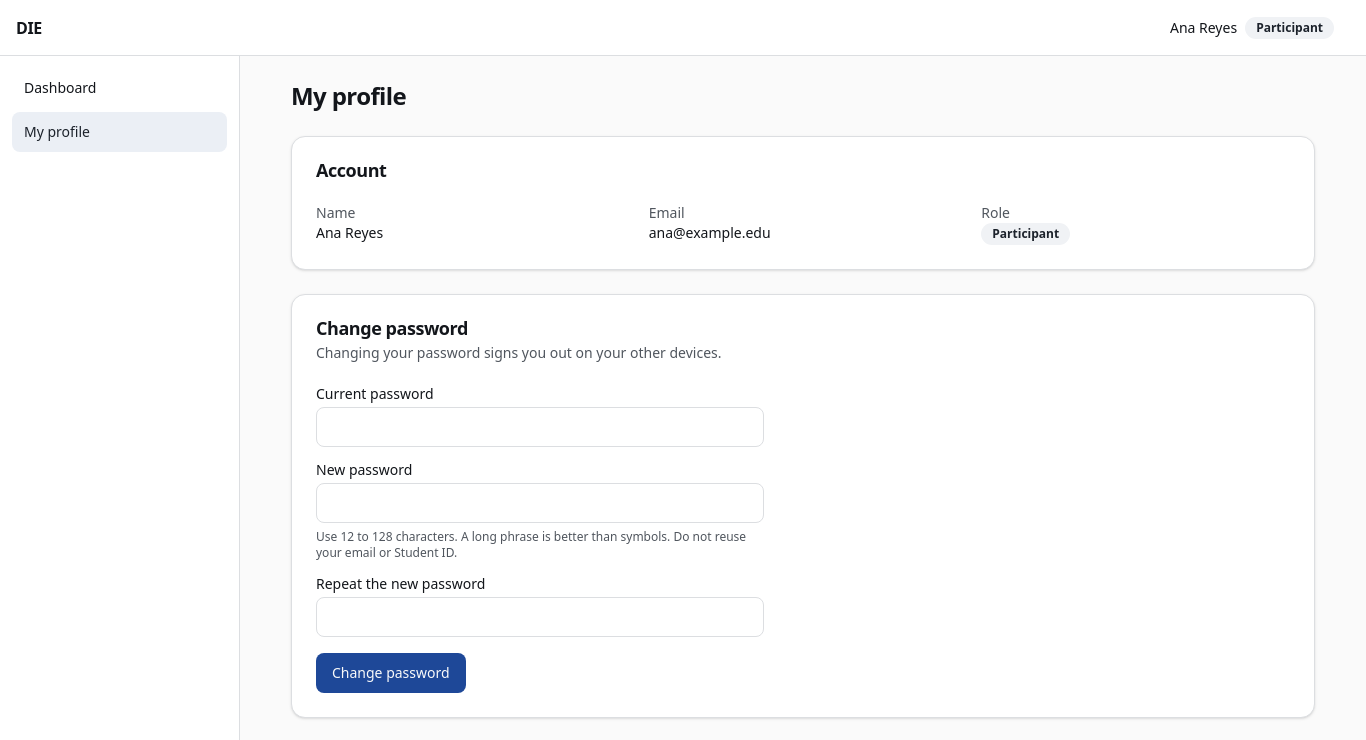
Test case: Change password (profile) › confirms success and clears the form
In the password field labelled "Current password": [540, 427] box [316, 407, 764, 447], type "current password!"
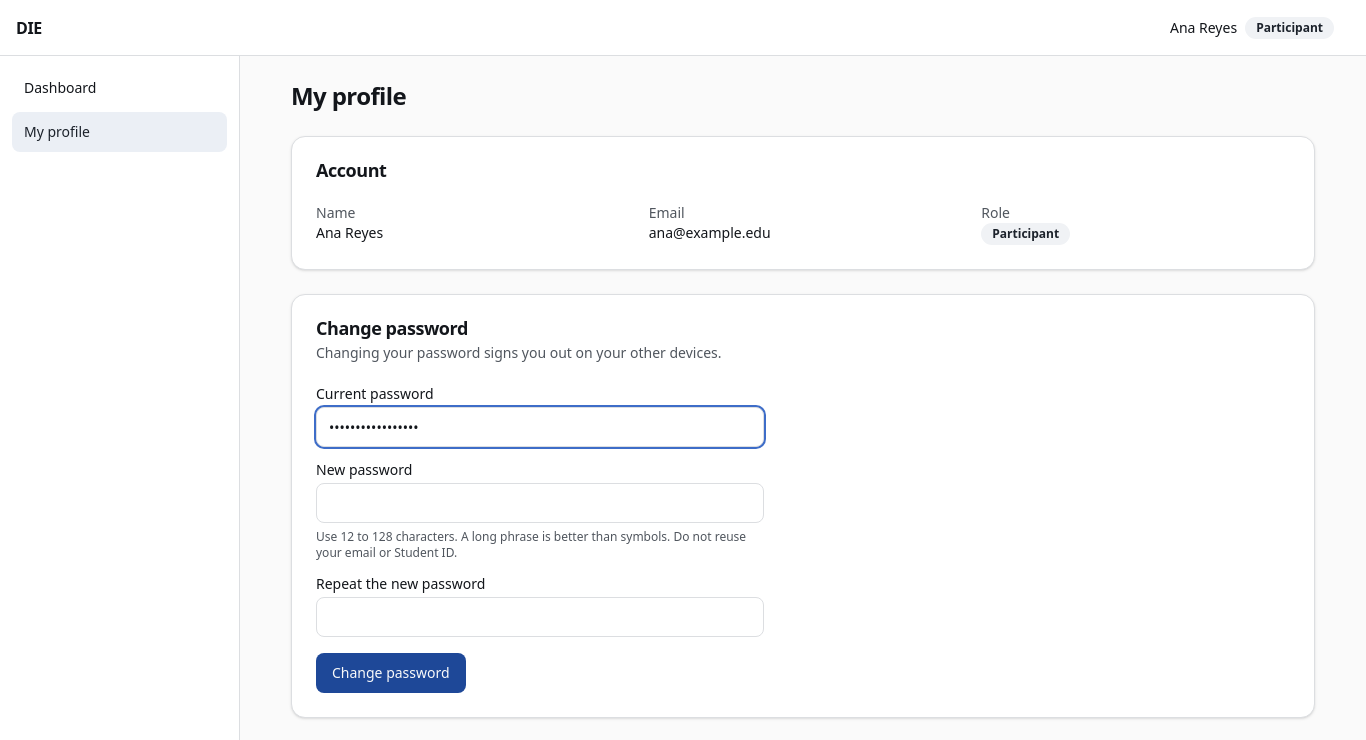
In the password field labelled "New password": [540, 503] box [316, 483, 764, 523], type "another long passphrase"
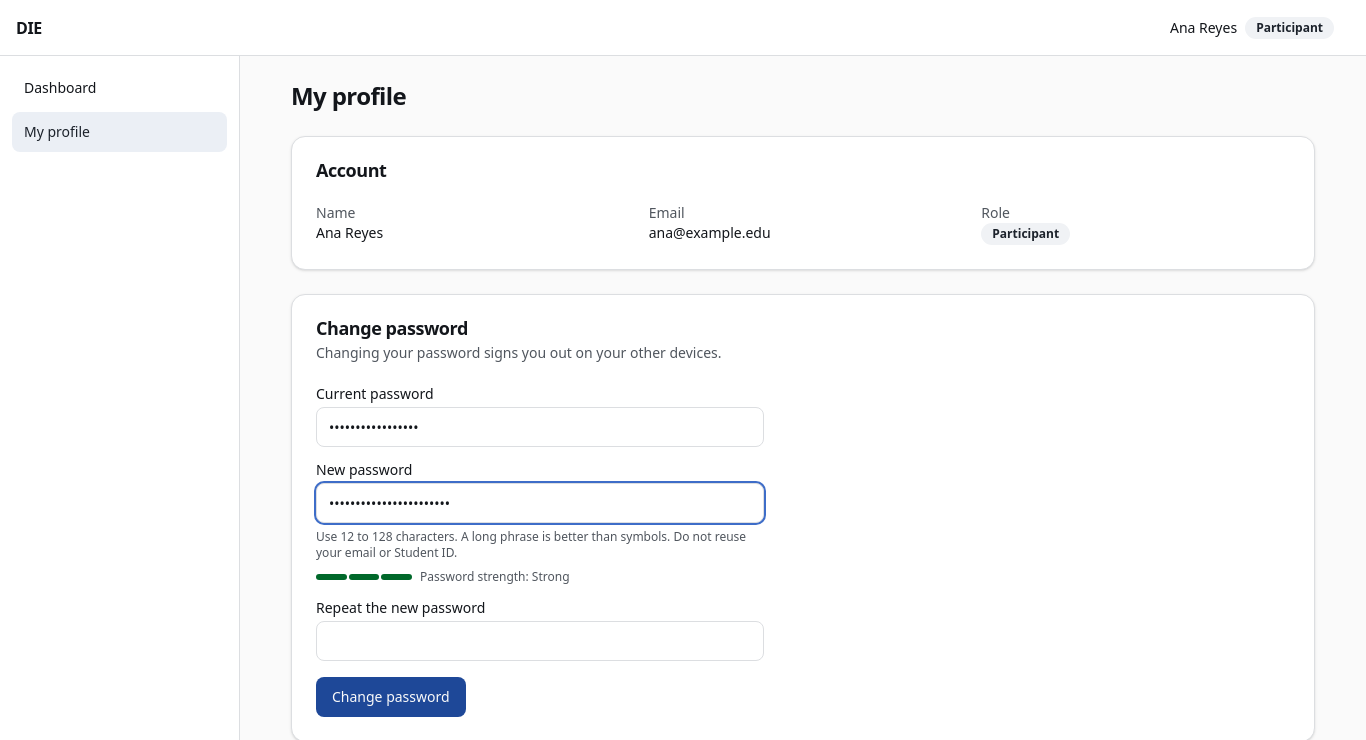
In the password field labelled "Repeat the new password": [540, 641] box [316, 621, 764, 661], type "another long passphrase"
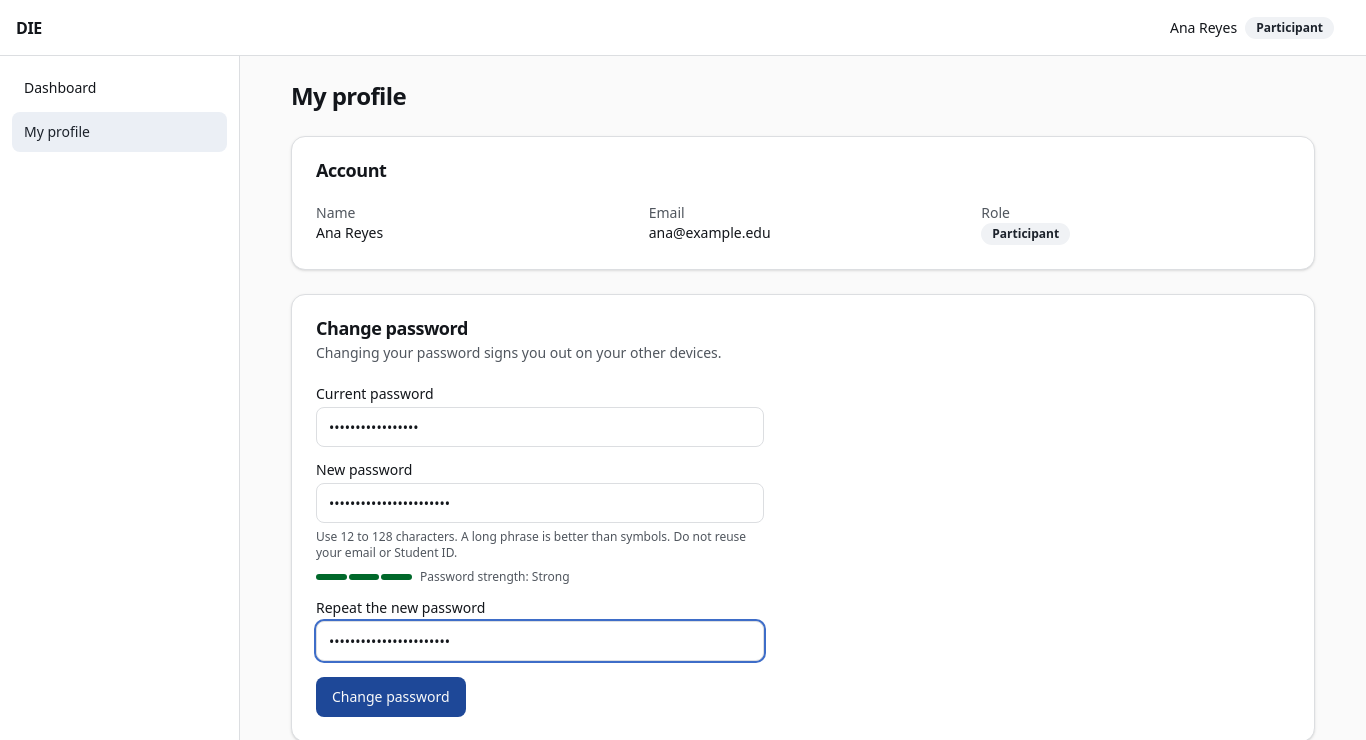
Click the button "Change password": [391, 697] box [316, 677, 466, 717]
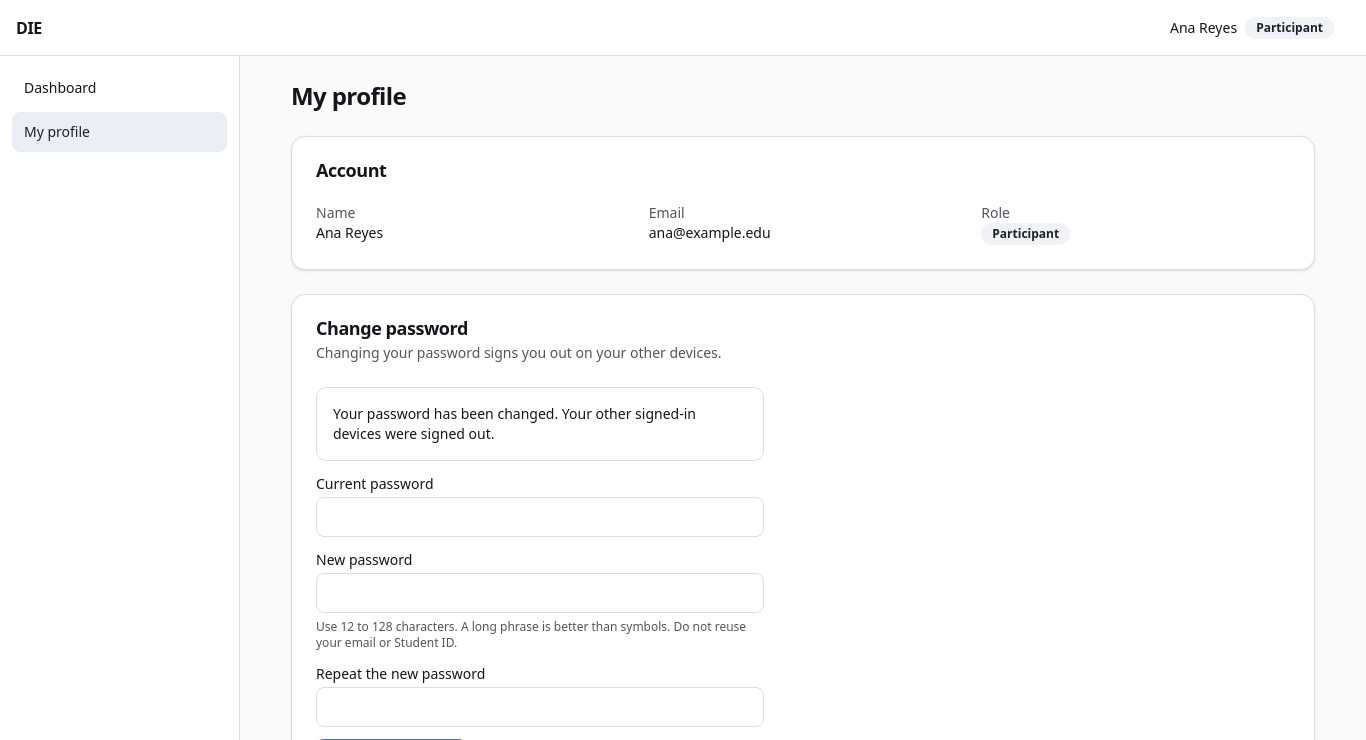
Result: the text "Your password has been changed. Your other signed-in devices were signed out." is shown at [316, 387, 764, 461]
Result: the password field labelled "Current password" is empty at [316, 497, 764, 537]
